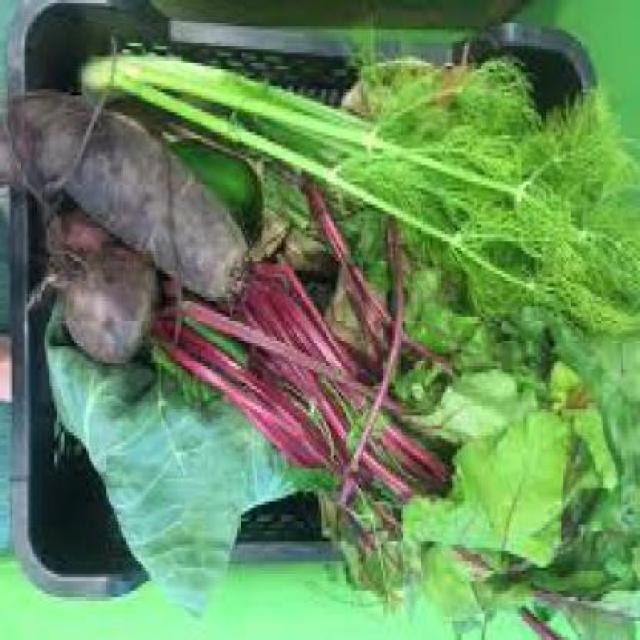BIODEGRADABLE: (152, 251, 640, 638), (79, 50, 639, 336), (49, 300, 314, 611), (10, 88, 255, 304), (301, 172, 477, 448), (402, 409, 568, 545), (262, 155, 378, 274), (67, 231, 161, 357), (165, 135, 264, 237), (538, 373, 620, 492), (411, 369, 522, 438), (49, 208, 117, 264)
